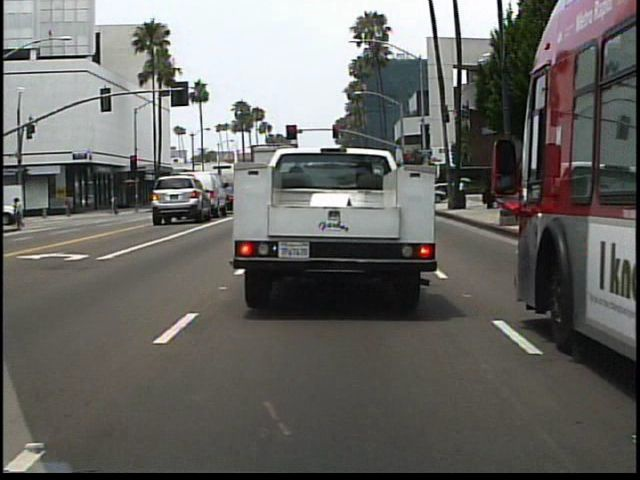person: (64, 191, 78, 218)
